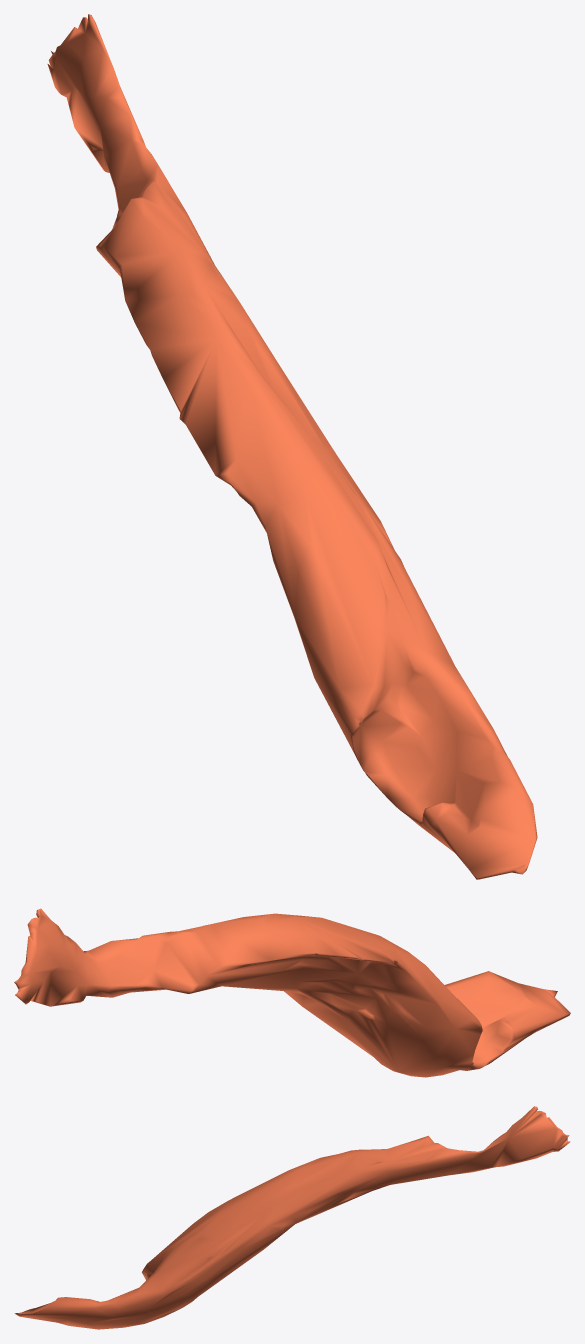
File: Flexor_hallucis_brevis_medial_head_right.glb
3 views of the same model, one above another, from view 1: azimuth 30°, elevation 25°; view 2: azimuth 150°, elevation 25°; view 3: azimuth 270°, elevation 25° (orthographic). The views are drawn at different scales.
Visible parts, largest first — view 1: Medial_head_of_flexor_hallucis_brevis.r_Generated_Mesh_From_; view 2: Medial_head_of_flexor_hallucis_brevis.r_Generated_Mesh_From_; view 3: Medial_head_of_flexor_hallucis_brevis.r_Generated_Mesh_From_.
Part boxes in pixels (<box>): Medial_head_of_flexor_hallucis_brevis.r_Generated_Mesh_From_: <box>47,14,537,879</box>; Medial_head_of_flexor_hallucis_brevis.r_Generated_Mesh_From_: <box>14,908,570,1077</box>; Medial_head_of_flexor_hallucis_brevis.r_Generated_Mesh_From_: <box>14,1106,570,1329</box>.
Size of the model in its own units: 0.013 by 0.0398 by 0.0834.
